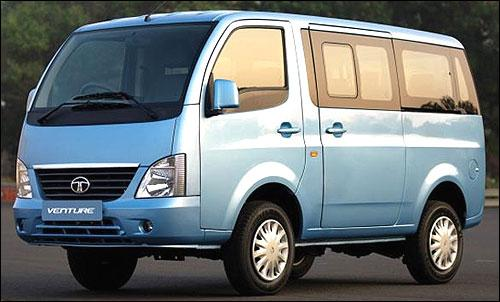van: (13, 9, 486, 296)
